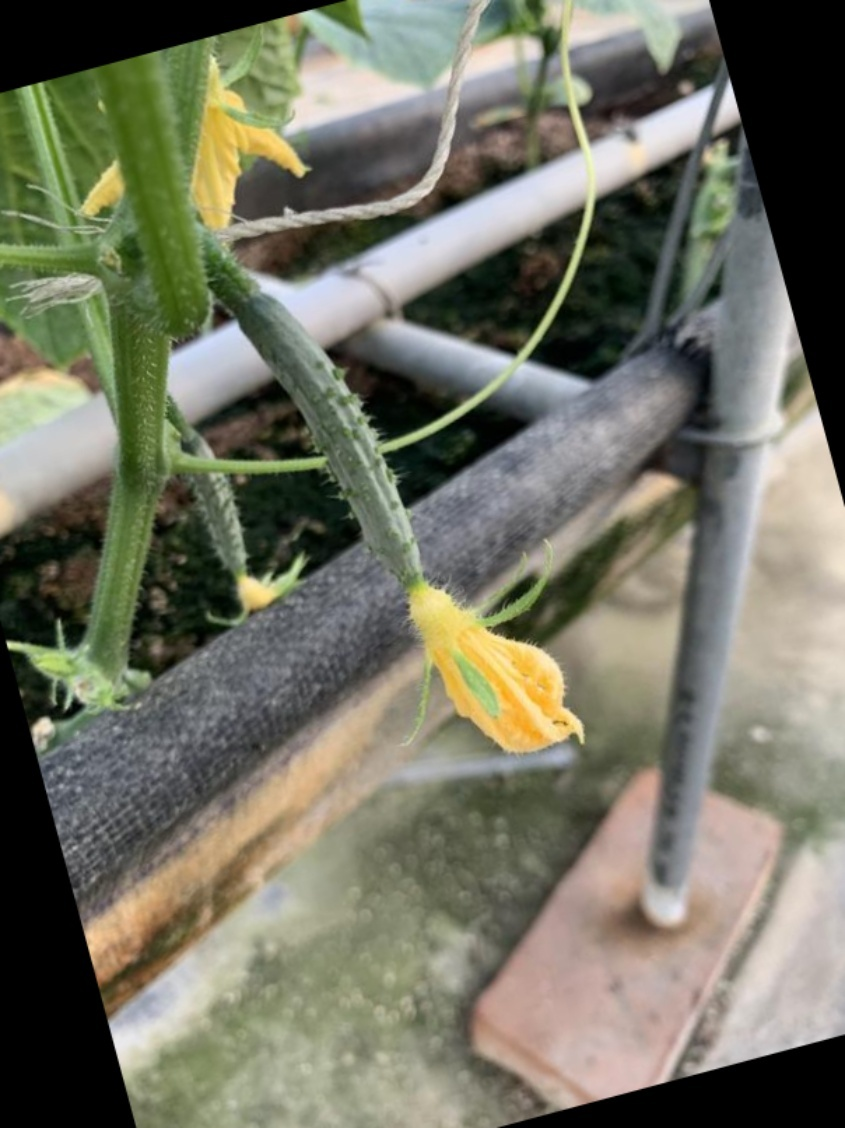bear: (229, 287, 542, 749)
